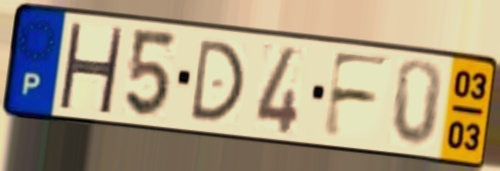0: (390, 57, 446, 151)
4: (254, 43, 303, 137)
5: (124, 25, 181, 123)
D: (186, 37, 248, 124)
F: (318, 48, 394, 142)
H: (55, 19, 126, 117)
